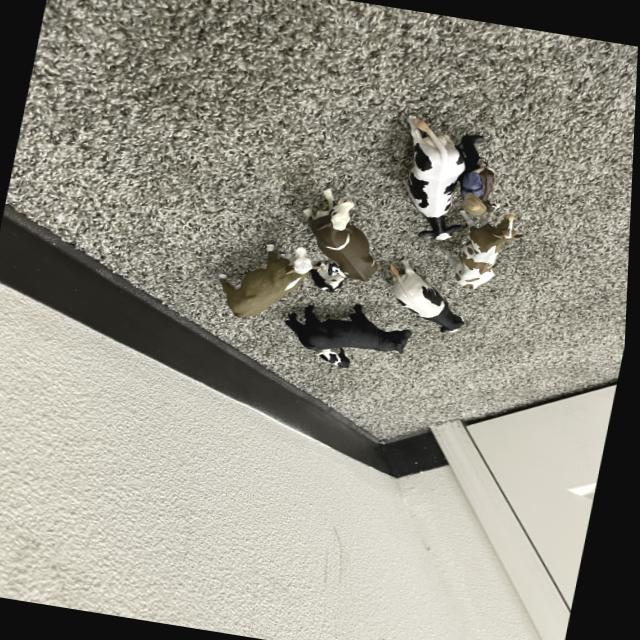cow: (213, 225, 323, 327), (300, 182, 383, 293), (439, 204, 538, 294), (379, 254, 470, 347), (408, 115, 466, 240), (287, 302, 416, 353), (309, 255, 353, 299), (477, 165, 501, 214), (318, 342, 357, 369)
person: (461, 136, 489, 215)
